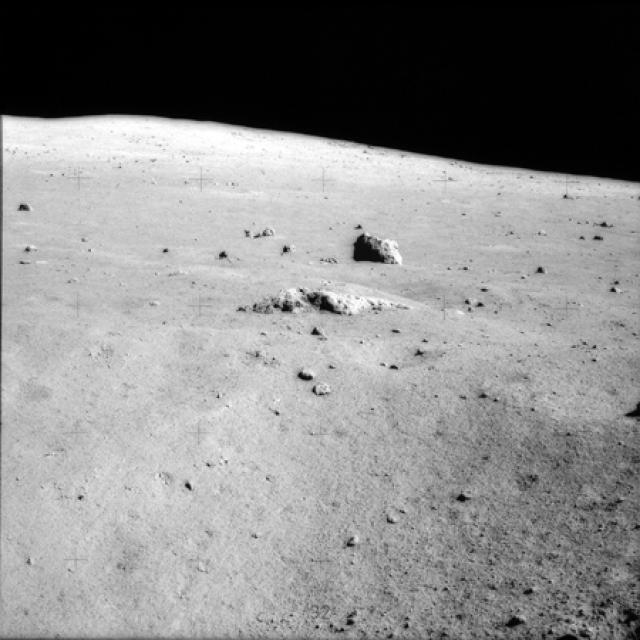crater: (421, 279, 578, 330), (350, 329, 445, 374)
rock: (309, 278, 401, 318), (350, 225, 410, 266), (246, 278, 304, 316), (250, 223, 278, 241), (296, 361, 313, 384)
